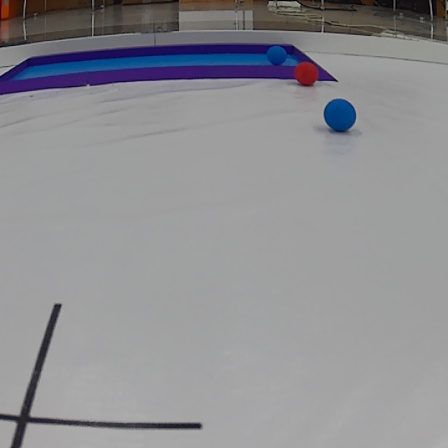blue: (321, 96, 359, 130), (265, 42, 290, 68)
blue_aim: (0, 44, 342, 87)
red: (292, 58, 324, 85)
